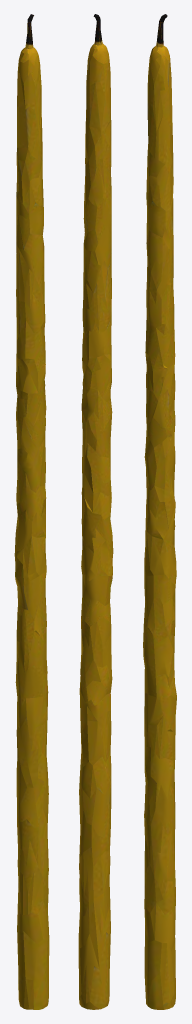
File: w3taper.glb
The picture shows the model from 3 angles, left to right: view 1: azimuth 30°, elevation 25°; view 2: azimuth 210°, elevation 25°; view 3: azimuth 330°, elevation 25°; orthographic projection.
Visible parts, largest first — view 1: output_unwrapped; view 2: output_unwrapped; view 3: output_unwrapped.
Part boxes in pixels (box(x1,y1,x2,y2)): output_unwrapped: box(14, 14, 49, 1009); output_unwrapped: box(78, 14, 113, 1009); output_unwrapped: box(143, 14, 176, 1009).
Size of the model in its own units: 0.0219 by 0.7 by 0.0212.
1 material, 1 textured.
